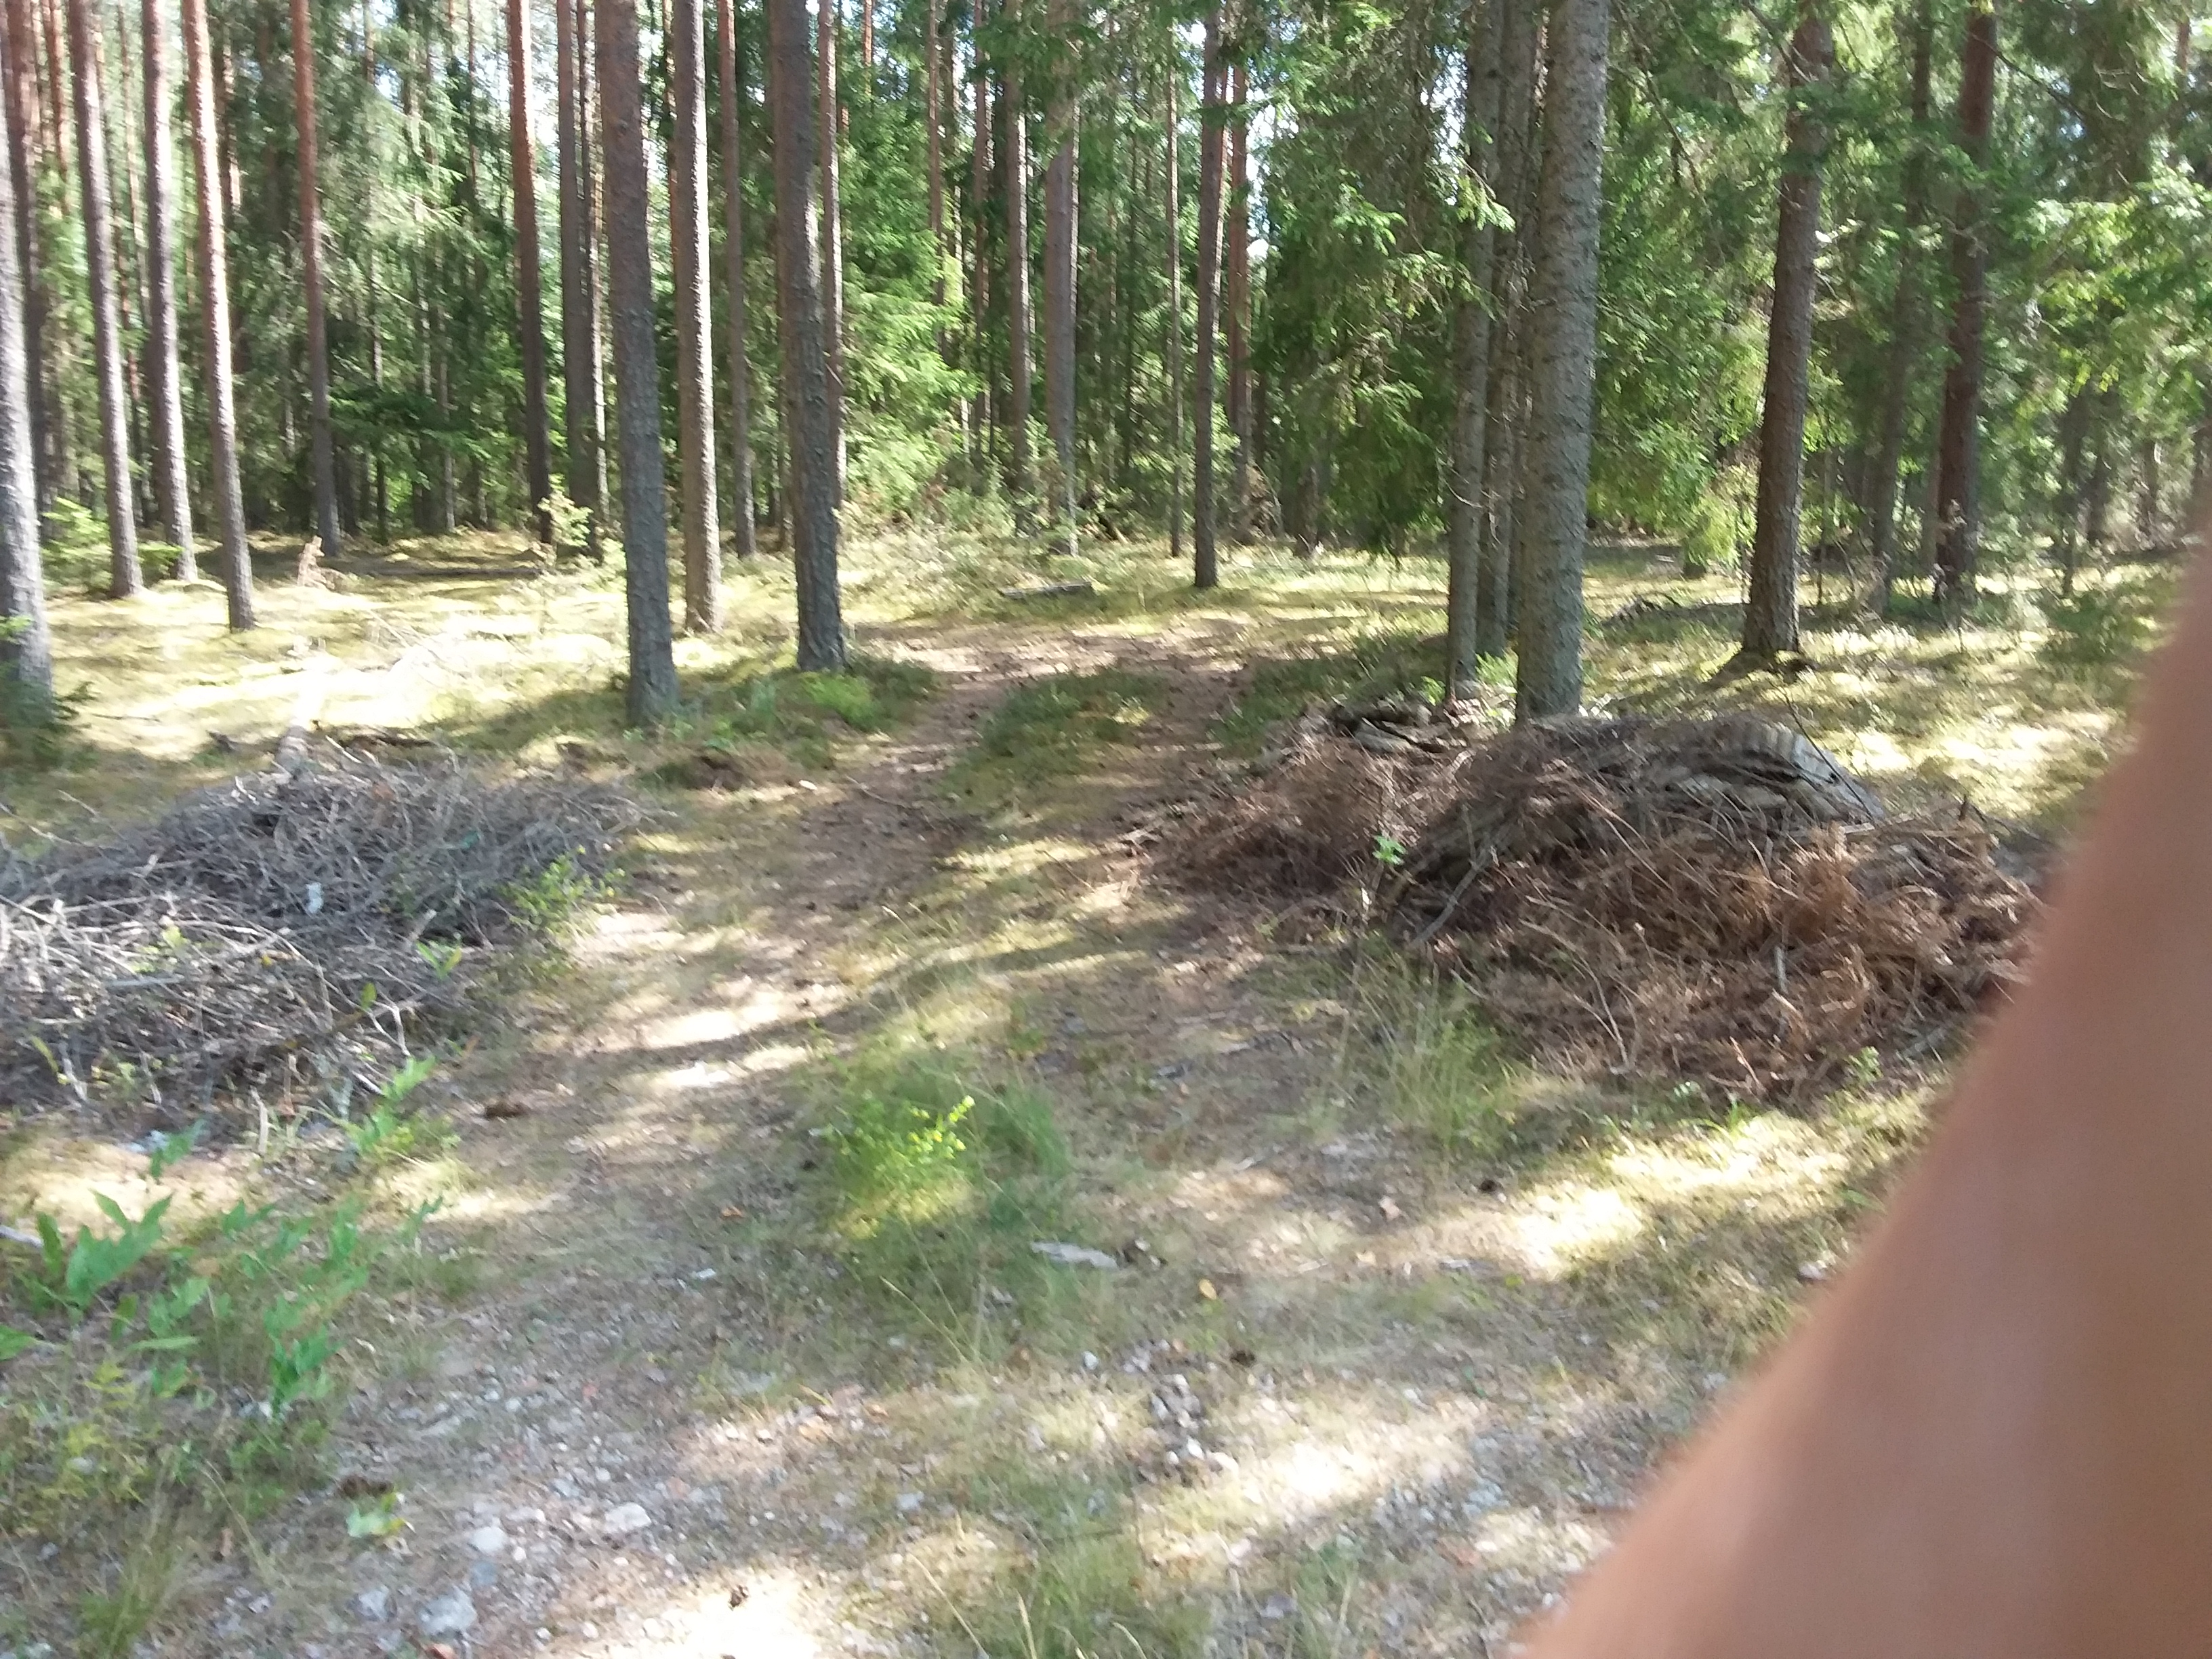trash: (1336, 664, 1998, 1091)
